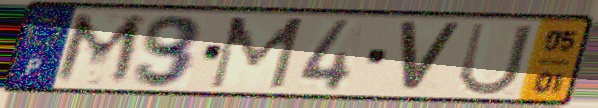4: (297, 17, 355, 94)
9: (130, 12, 208, 91)
M: (48, 11, 151, 89), (204, 15, 309, 91)
U: (454, 20, 537, 98)
V: (395, 19, 466, 96)
